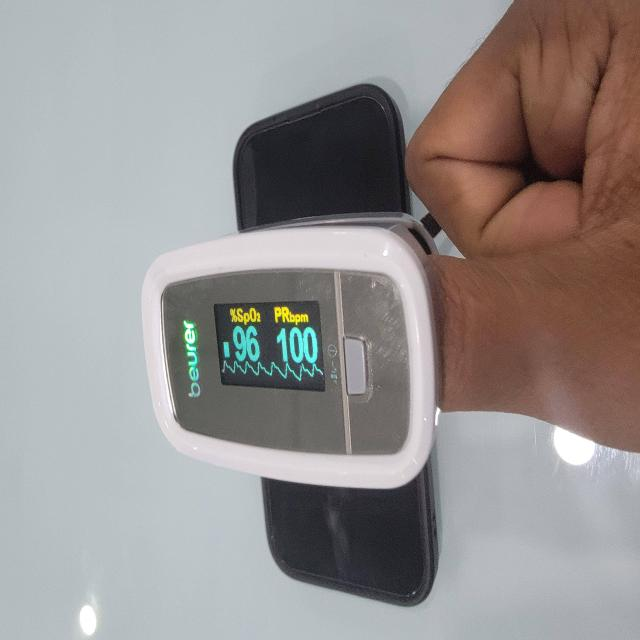spo2: (142, 218, 440, 493)
